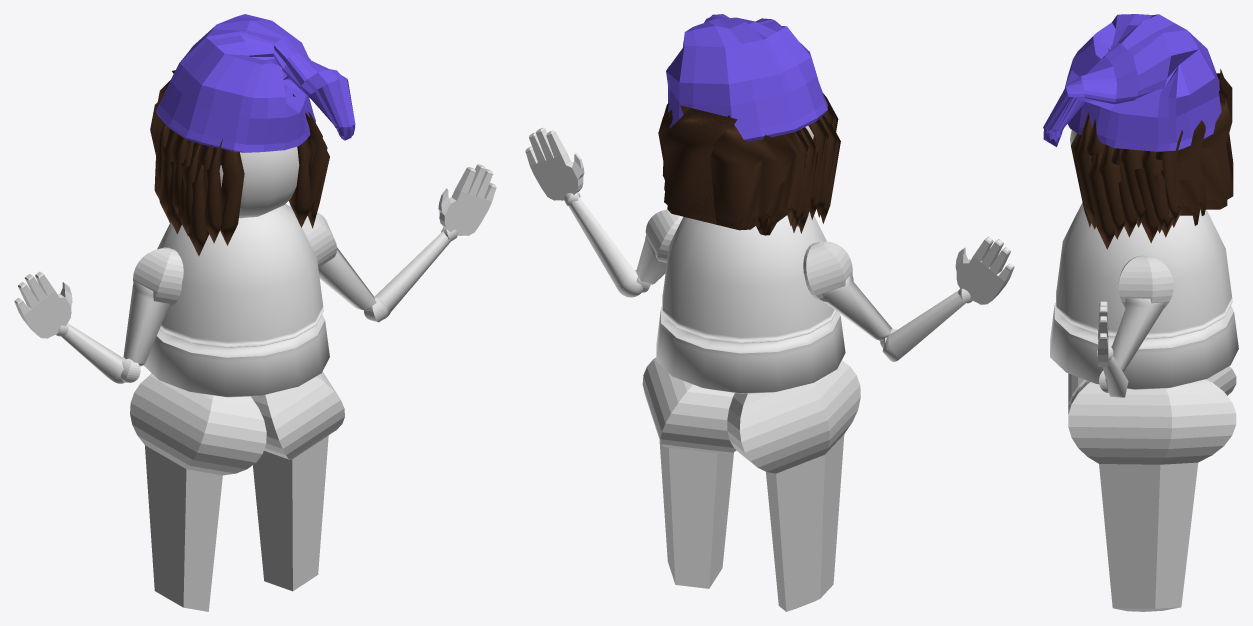
File: CharacterToExport.fbx
3 renders of one model, left to right at view 1: azimuth 30°, elevation 25°; view 2: azimuth 150°, elevation 25°; view 3: azimuth 270°, elevation 25°, orthographic.
Parts seen in each view (by area): view 1: Esfera.003, Cilindro, Círculo, Cubo, Cubo.002, Esfera.002, Cubo.001, Cabeza, Esfera.005, Esfera.001, Esfera.004; view 2: Esfera.003, Cilindro, Cubo.001, Círculo, Cubo.002, Esfera.005, Esfera.001, Cubo, Esfera.002; view 3: Esfera.003, Cilindro, Círculo, Cubo.001, Cubo, Esfera.001, Esfera.002, Cubo.002, Esfera.005.
Part boxes in pixels (x1,y1,x2,y2): Esfera.003: [130, 371, 344, 611]; Cilindro: [143, 204, 329, 397]; Círculo: [156, 14, 355, 152]; Cubo: [159, 112, 329, 255]; Cubo.002: [14, 164, 496, 338]; Esfera.002: [123, 247, 376, 366]; Cubo.001: [150, 70, 322, 233]; Cabeza: [219, 146, 299, 218]; Esfera.005: [61, 231, 450, 383]; Esfera.001: [133, 212, 336, 306]; Esfera.004: [121, 298, 387, 382]; Esfera.003: [642, 357, 860, 611]; Cilindro: [656, 212, 845, 393]; Cubo.001: [658, 103, 836, 228]; Círculo: [666, 14, 827, 141]; Cubo.002: [525, 127, 1014, 304]; Esfera.005: [568, 196, 965, 361]; Esfera.001: [645, 209, 852, 301]; Cubo: [667, 93, 840, 235]; Esfera.002: [636, 236, 892, 340]; Esfera.003: [1068, 366, 1236, 611]; Cilindro: [1050, 202, 1238, 389]; Círculo: [1043, 14, 1221, 151]; Cubo.001: [1086, 69, 1233, 239]; Cubo: [1071, 112, 1227, 249]; Esfera.001: [1118, 255, 1173, 307]; Esfera.002: [1111, 298, 1165, 371]; Cubo.002: [1098, 301, 1108, 366]; Esfera.005: [1102, 356, 1128, 397].
Size of the model in its own units: 579 by 649 by 202.
